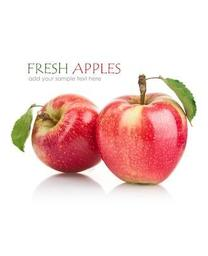apple: (94, 75, 193, 183), (30, 94, 100, 172)
